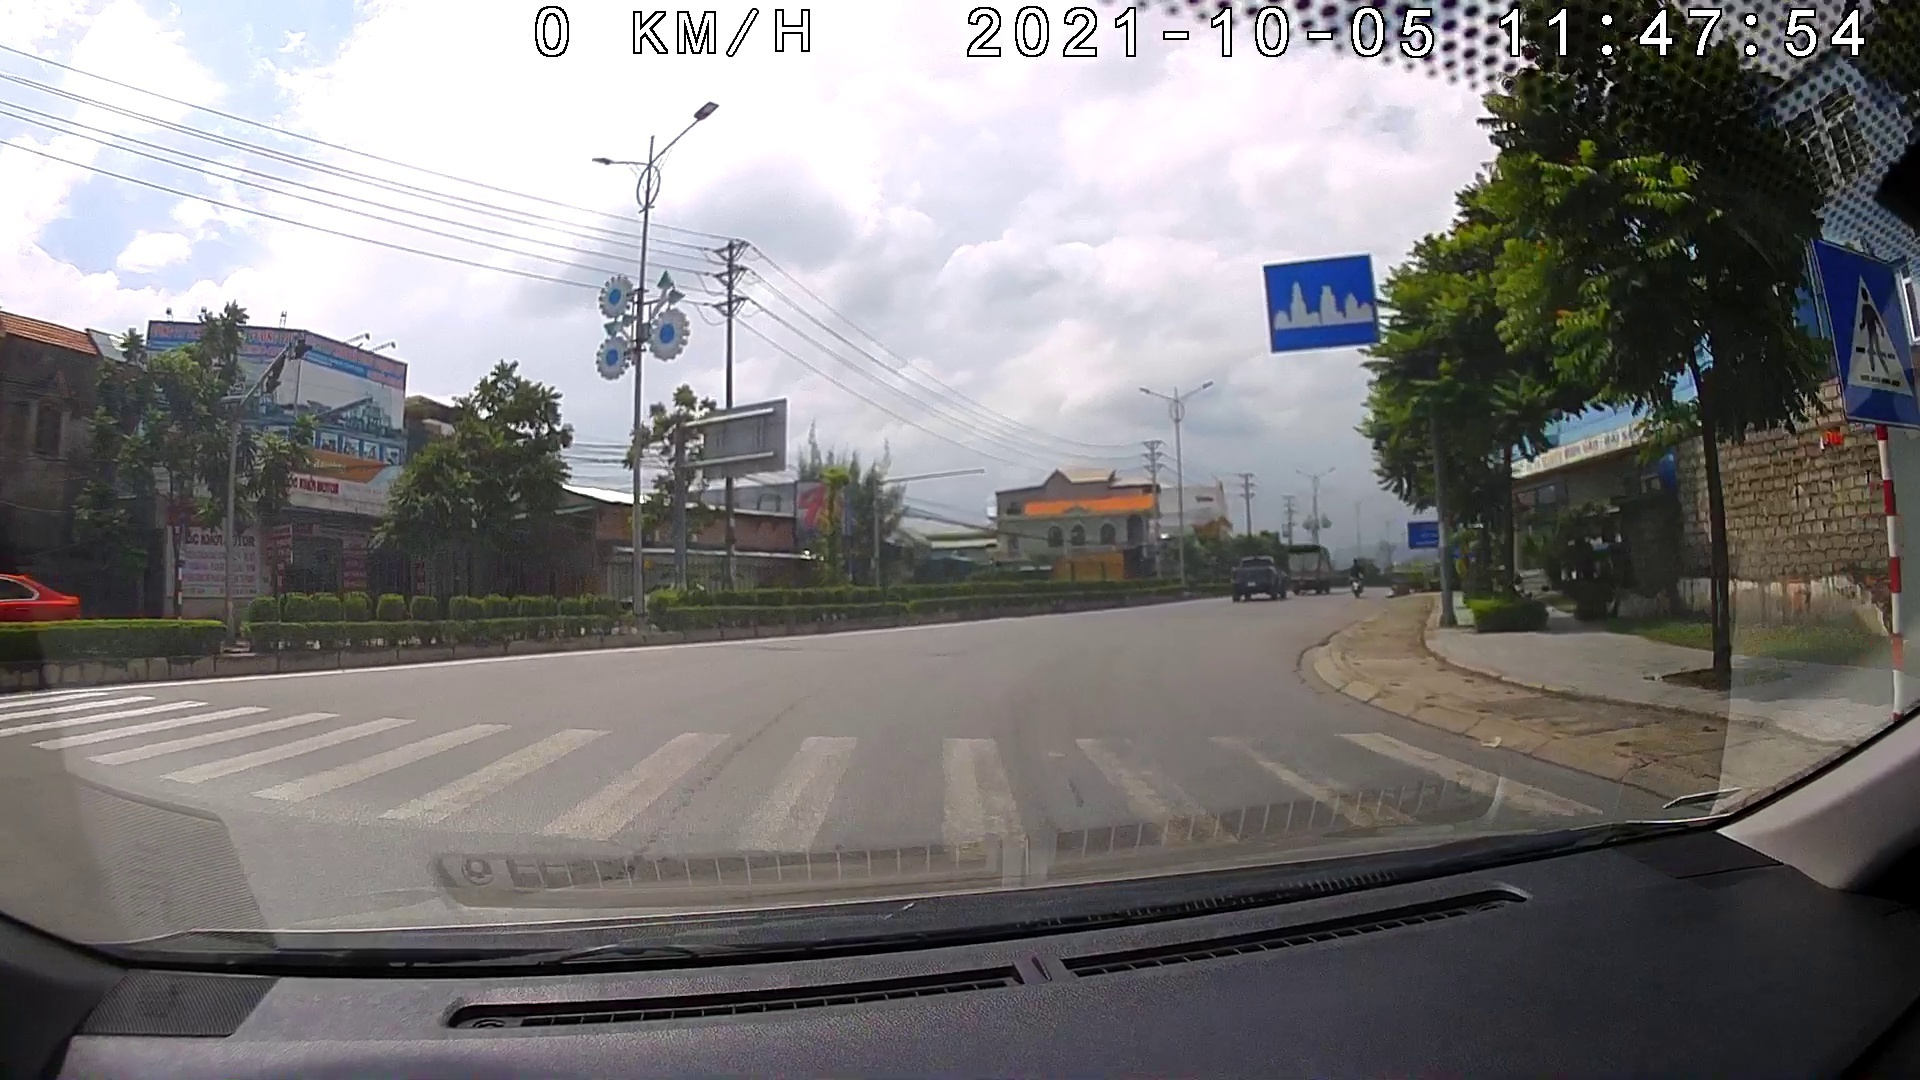Bien khac: (1263, 253, 1381, 353)
Nguoi di bo: (1807, 232, 1919, 431)
